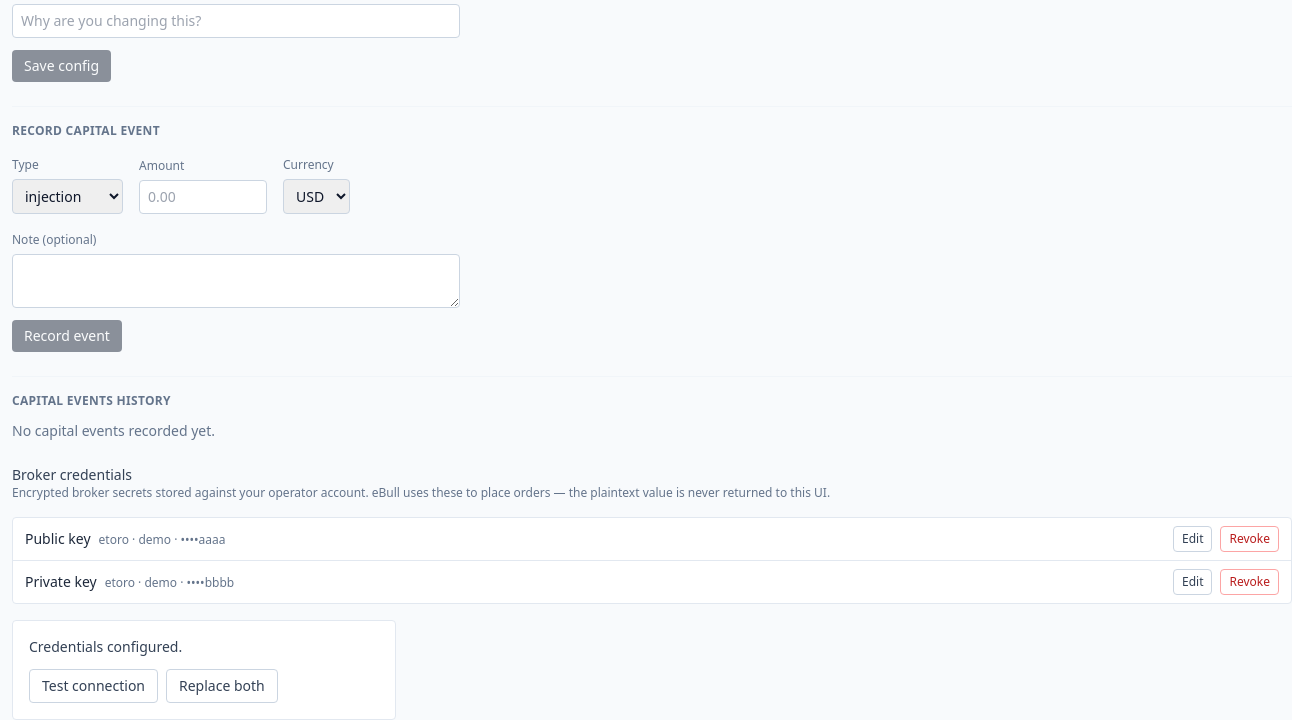
Test: SettingsPage — complete mode management › shows error when stored validation returns 404
The width and height of the screenshot is (1292, 720).
(page scrolled)
Expected: the text "Credentials configured." is shown, [29,637,182,656]
Step 1. Click the button "Test connection" → (94, 686), box [29,669,158,703]
(page scrolled)
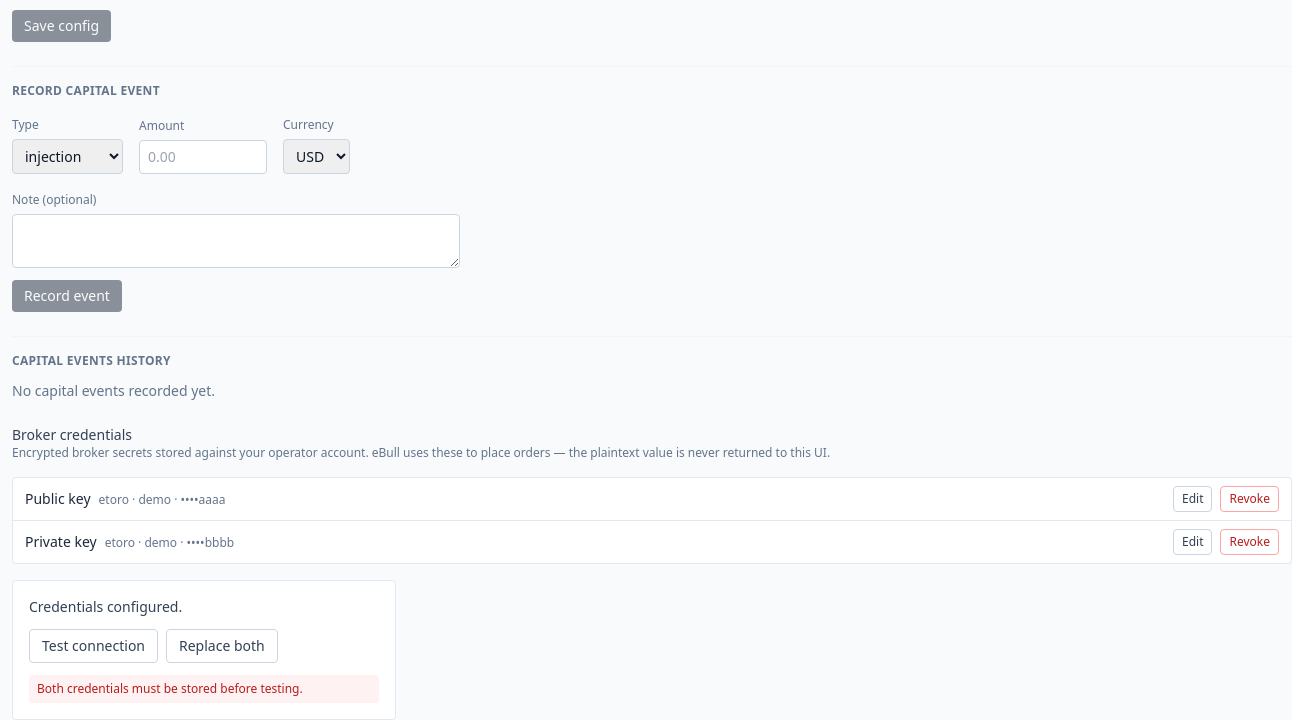
Expected: the text "Both credentials must be stored before testing." is shown, [29,675,379,703]
